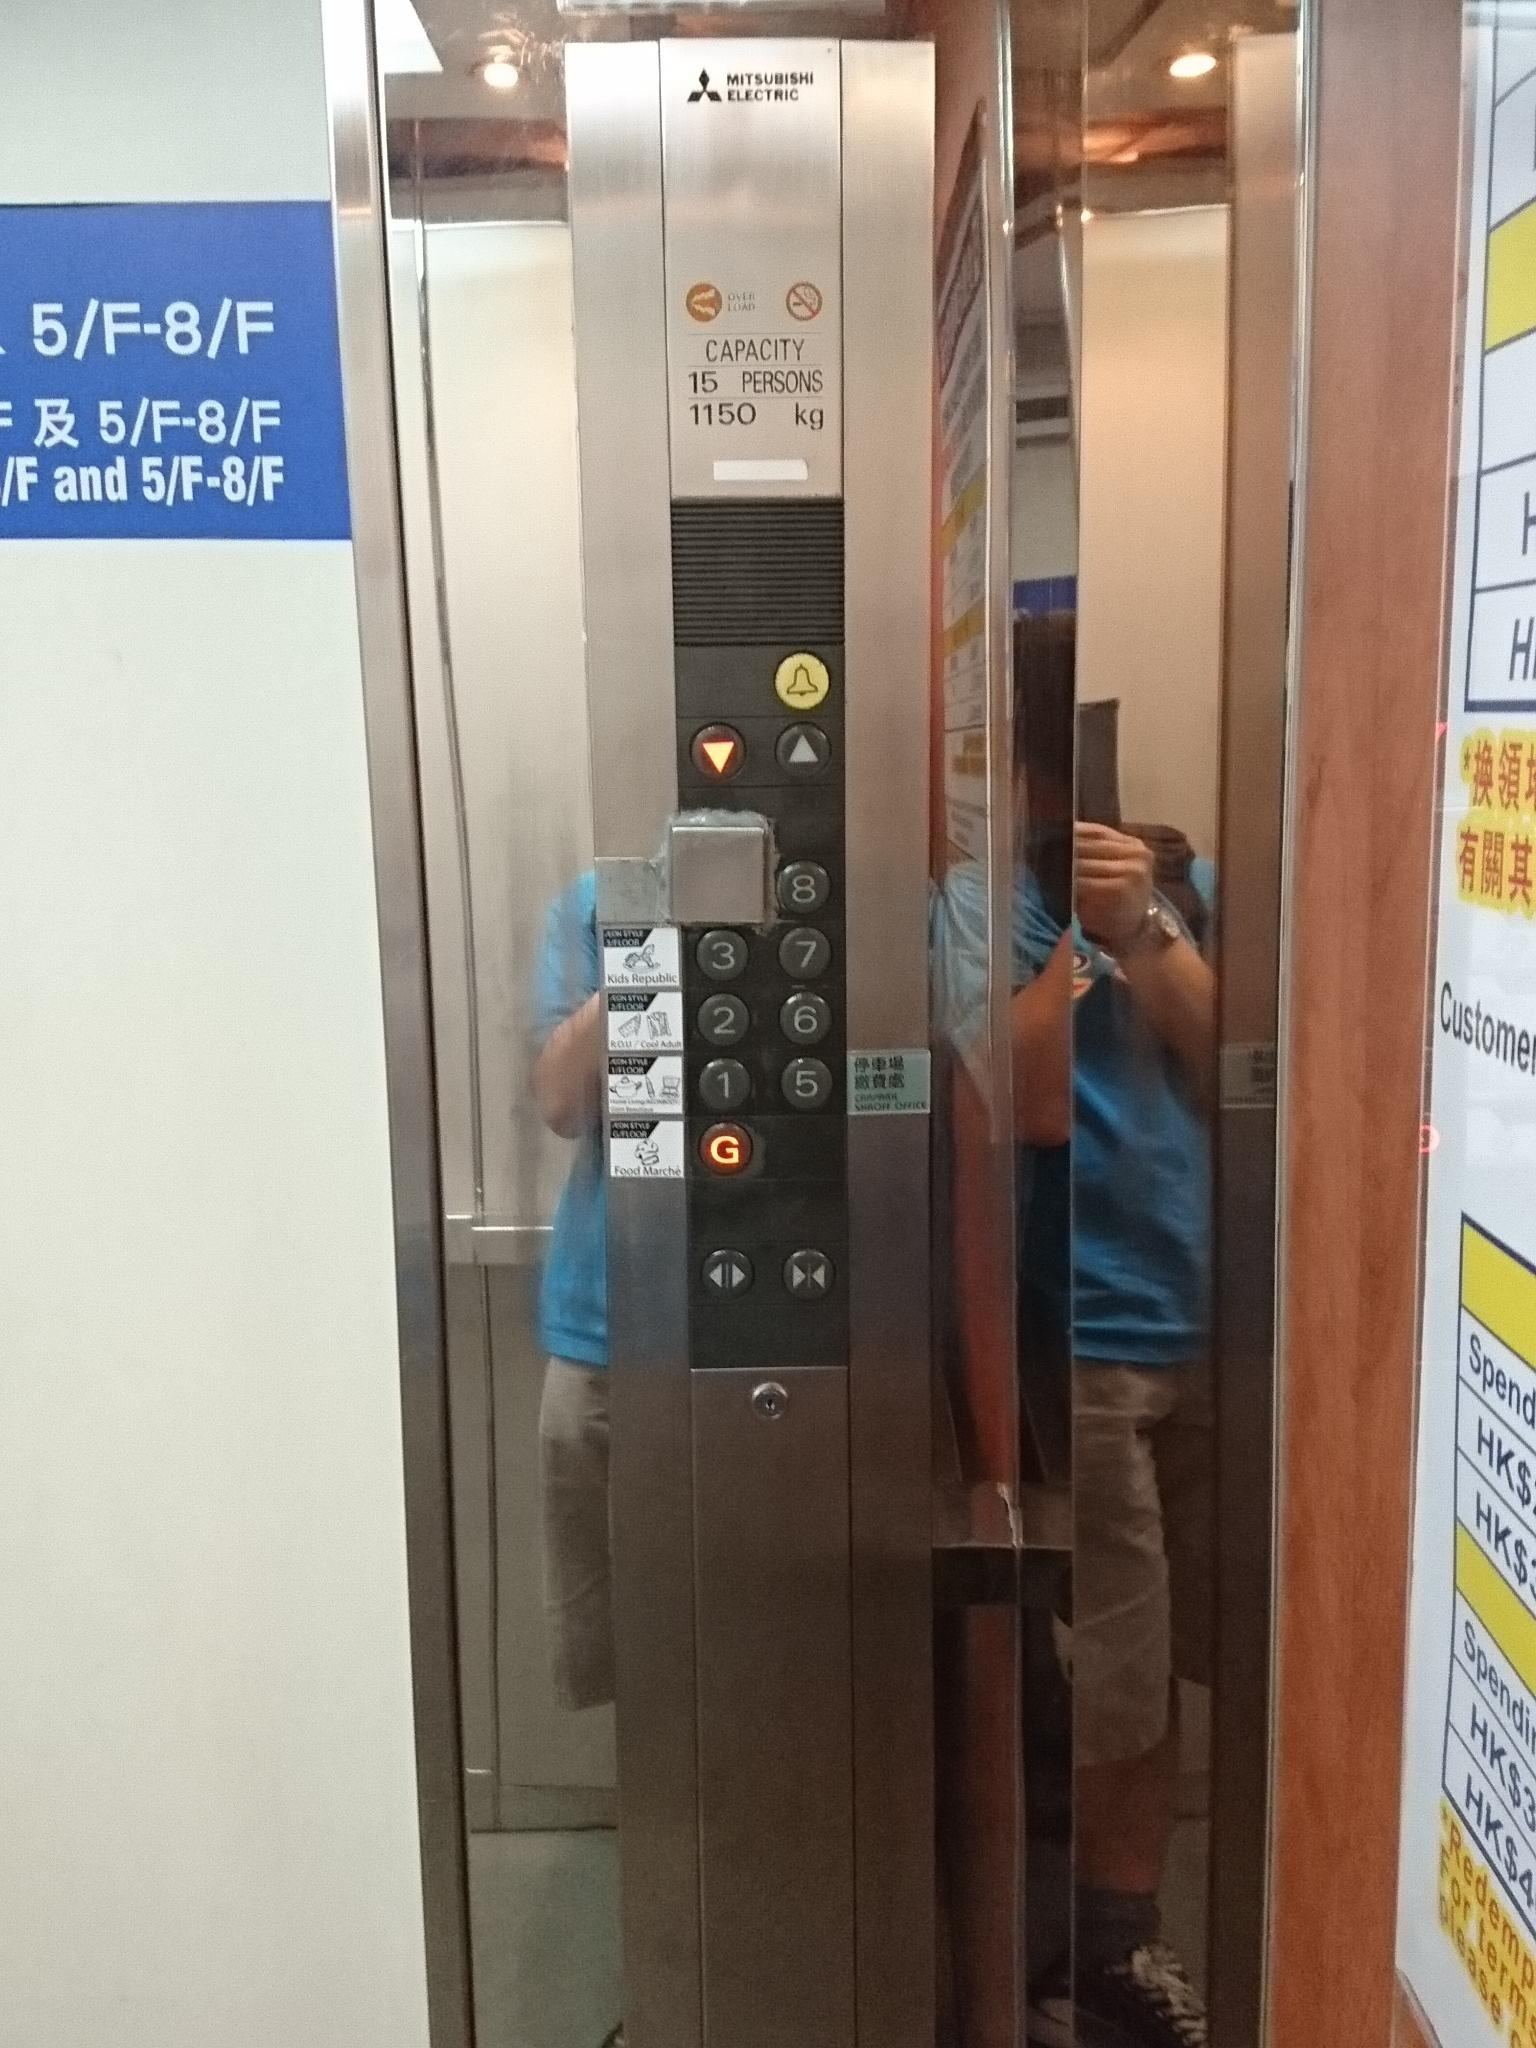1: (694, 1055, 753, 1114)
2: (695, 989, 750, 1051)
3: (695, 924, 750, 985)
5: (778, 1051, 836, 1114)
6: (776, 989, 833, 1050)
7: (774, 922, 834, 984)
8: (773, 856, 833, 919)
G: (699, 1118, 753, 1176)
alarm: (771, 648, 836, 713)
close: (779, 1242, 836, 1306)
down: (686, 714, 753, 785)
keyhole: (749, 1376, 792, 1429)
open: (700, 1243, 755, 1301)
up: (771, 721, 839, 784)
